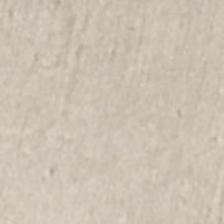Non_Crack: (16, 30, 224, 217)
